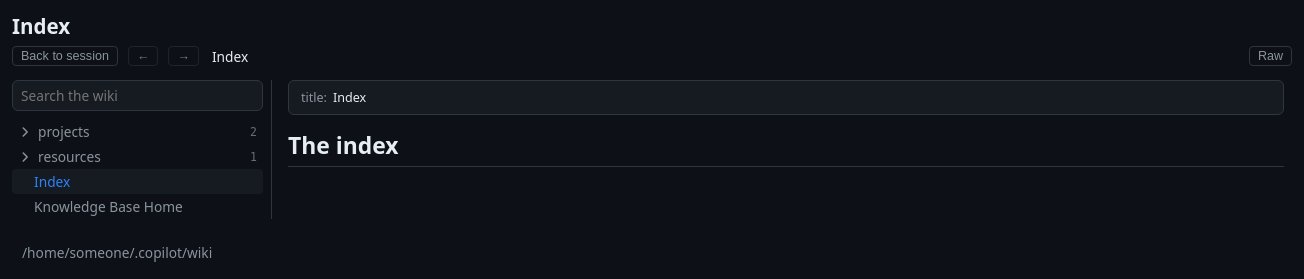
Scenario: showing a page as the file it is › says which view it would switch to
This screenshot has width=1304, height=279.
Step 1. Click the button "Raw" → click(1270, 56), box [1249,46,1292,66]
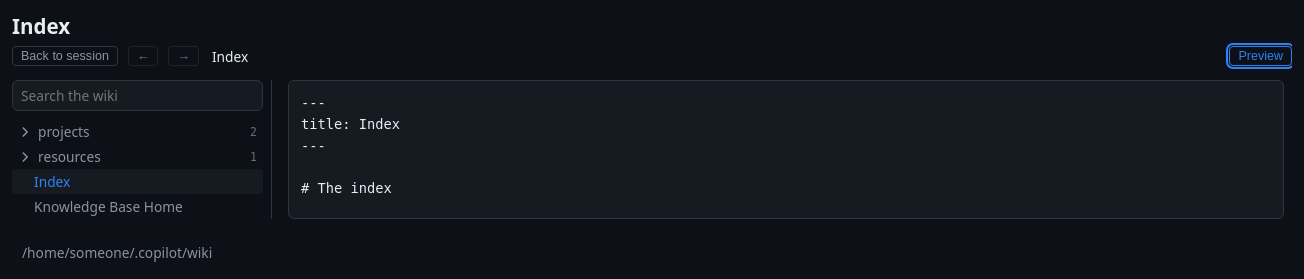
Result: the button "Preview" is shown at [1229,46,1292,66]
Result: the button "Raw" is gone
